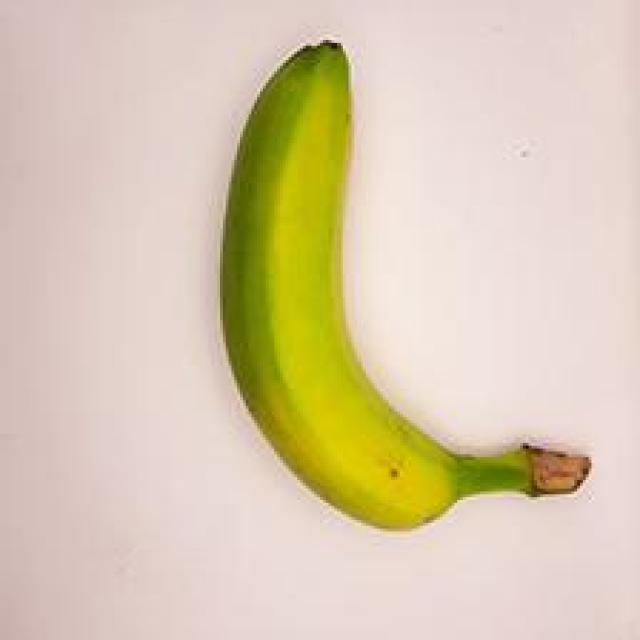Unripe: (169, 22, 592, 546)
